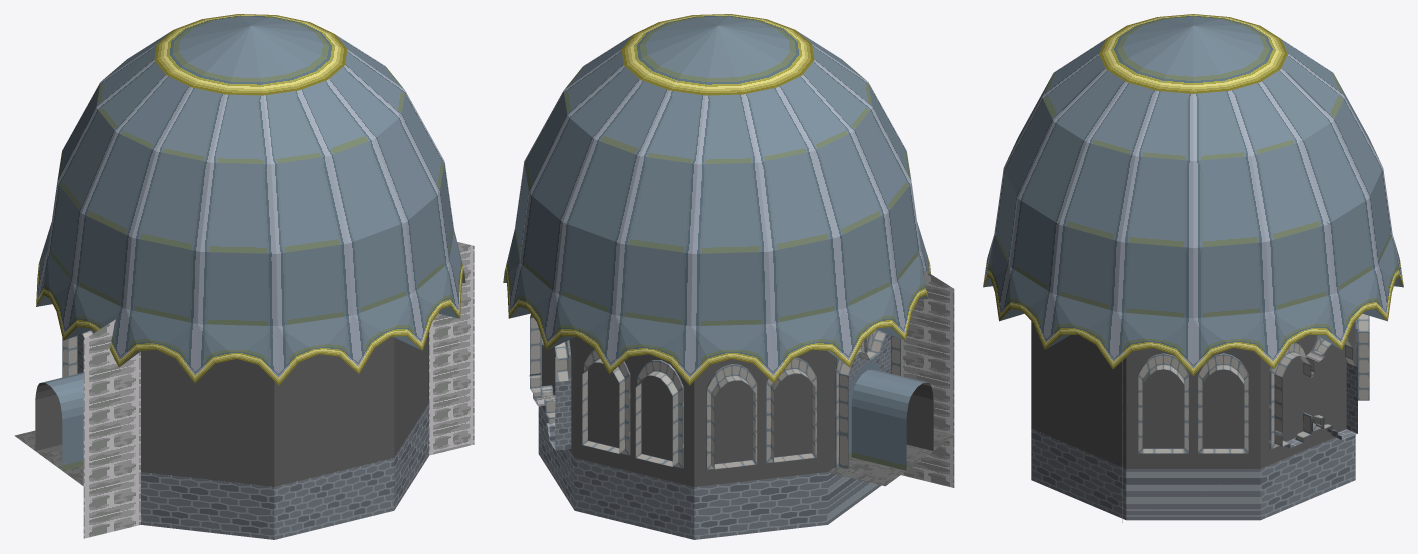
File: gon_11_bake.dae
3 views of the same model, side by side, from view 1: azimuth 30°, elevation 25°; view 2: azimuth 150°, elevation 25°; view 3: azimuth 270°, elevation 25° (orthographic). The views are drawn at different scales.
Parts seen in each view (by area): view 1: yane03, pCylinder37_q00011, pCylinder36_q00014_part0, polySurface886_q00027, polySurface885_q00019, polySurface917_q00028, polySurface917_q00008, polySurface927_q00018; view 2: yane03, pCylinder37_q00011, pCylinder36_q00014_part0, polySurface886_q00027, polySurface935_q00026_part1, polySurface917_q00028, polySurface930_q00022_part1, polySurface929_q00013_part1, polySurface935_q00026_part0, polySurface927_q00018, polySurface917_q00008, pCylinder37_q00012 (+1 smaller); view 3: yane03, pCylinder37_q00011, pCylinder36_q00014_part0, polySurface935_q00026_part1, polySurface936_part1, polySurface935_q00026_part0, yane02.
Part boxes in pixels (bbox=[...]): yane03: bbox=[36, 14, 463, 385]; pCylinder37_q00011: bbox=[141, 333, 428, 486]; pCylinder36_q00014_part0: bbox=[141, 404, 428, 539]; polySurface886_q00027: bbox=[83, 319, 140, 538]; polySurface885_q00019: bbox=[429, 242, 474, 455]; polySurface917_q00028: bbox=[41, 372, 83, 470]; polySurface917_q00008: bbox=[35, 382, 62, 450]; polySurface927_q00018: bbox=[14, 430, 83, 485]; yane03: bbox=[504, 14, 930, 385]; pCylinder37_q00011: bbox=[542, 336, 827, 486]; pCylinder36_q00014_part0: bbox=[538, 406, 881, 539]; polySurface886_q00027: bbox=[901, 269, 954, 487]; polySurface935_q00026_part1: bbox=[529, 314, 682, 468]; polySurface917_q00028: bbox=[851, 369, 927, 470]; polySurface930_q00022_part1: bbox=[707, 358, 816, 469]; polySurface929_q00013_part1: bbox=[836, 329, 900, 468]; polySurface935_q00026_part0: bbox=[533, 340, 683, 468]; polySurface927_q00018: bbox=[828, 430, 953, 486]; polySurface917_q00008: bbox=[906, 382, 933, 450]; pCylinder37_q00012: bbox=[828, 351, 834, 471]; yane03: bbox=[983, 14, 1403, 375]; pCylinder37_q00011: bbox=[1031, 321, 1355, 468]; pCylinder36_q00014_part0: bbox=[1031, 429, 1355, 520]; polySurface935_q00026_part1: bbox=[1271, 314, 1369, 449]; polySurface936_part1: bbox=[1138, 354, 1248, 453]; polySurface935_q00026_part0: bbox=[1269, 319, 1357, 449]; yane02: bbox=[983, 276, 1403, 349].
Size of the model in its own units: 154 by 166 by 149.
